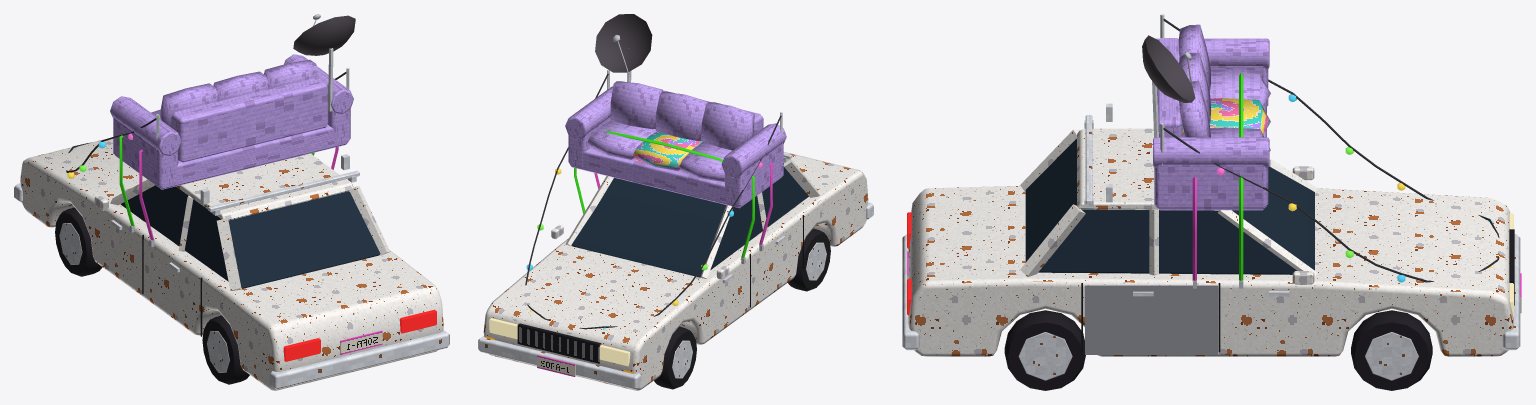
Rendered from s_sofacar.glb.
3 renders of one model, left to right at view 1: azimuth 30°, elevation 25°; view 2: azimuth 150°, elevation 25°; view 3: azimuth 270°, elevation 25°, orthographic. The views are drawn at different scales.
Visible parts, largest first — view 1: s_sofacar_mesh, wheel_rr, wheel_fr; view 2: s_sofacar_mesh, wheel_fr, wheel_rr; view 3: s_sofacar_mesh, wheel_fl, wheel_rl.
Part boxes in pixels (left/top/right/bottom): s_sofacar_mesh: left=14, top=14, right=449, bottom=390; wheel_rr: left=202, top=315, right=249, bottom=384; wheel_fr: left=55, top=207, right=102, bottom=276; s_sofacar_mesh: left=478, top=14, right=873, bottom=390; wheel_fr: left=654, top=326, right=696, bottom=389; wheel_rr: left=788, top=228, right=830, bottom=291; s_sofacar_mesh: left=902, top=14, right=1521, bottom=356; wheel_fl: left=1351, top=310, right=1432, bottom=390; wheel_rl: left=1004, top=310, right=1085, bottom=390.
Size of what is drawn, in the model's own units: 2.05 by 2.83 by 4.56.
5 materials, 4 textured.
